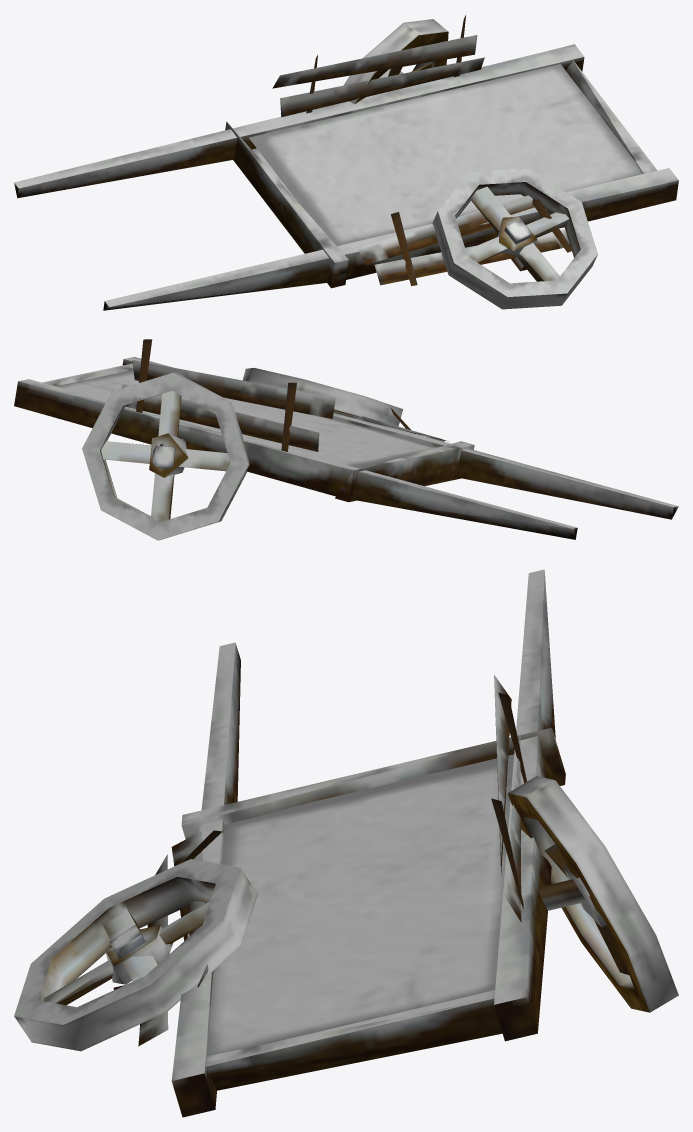
Rendered from nsm-general_obj_21_1_lod_01.fbx.
3 views of the same model, one above another, from view 1: azimuth 30°, elevation 25°; view 2: azimuth 150°, elevation 25°; view 3: azimuth 270°, elevation 25° (orthographic). The views are drawn at different scales.
Visible parts, largest first — view 1: Sphere02; view 2: Sphere02; view 3: Sphere02.
Boxes of the visible parts, box(x1,y1,x2,y2) form: Sphere02: box(14, 15, 678, 310); Sphere02: box(14, 339, 678, 540); Sphere02: box(14, 569, 678, 1117).
Size of the model in its own units: 4.87 by 1.44 by 3.09.
